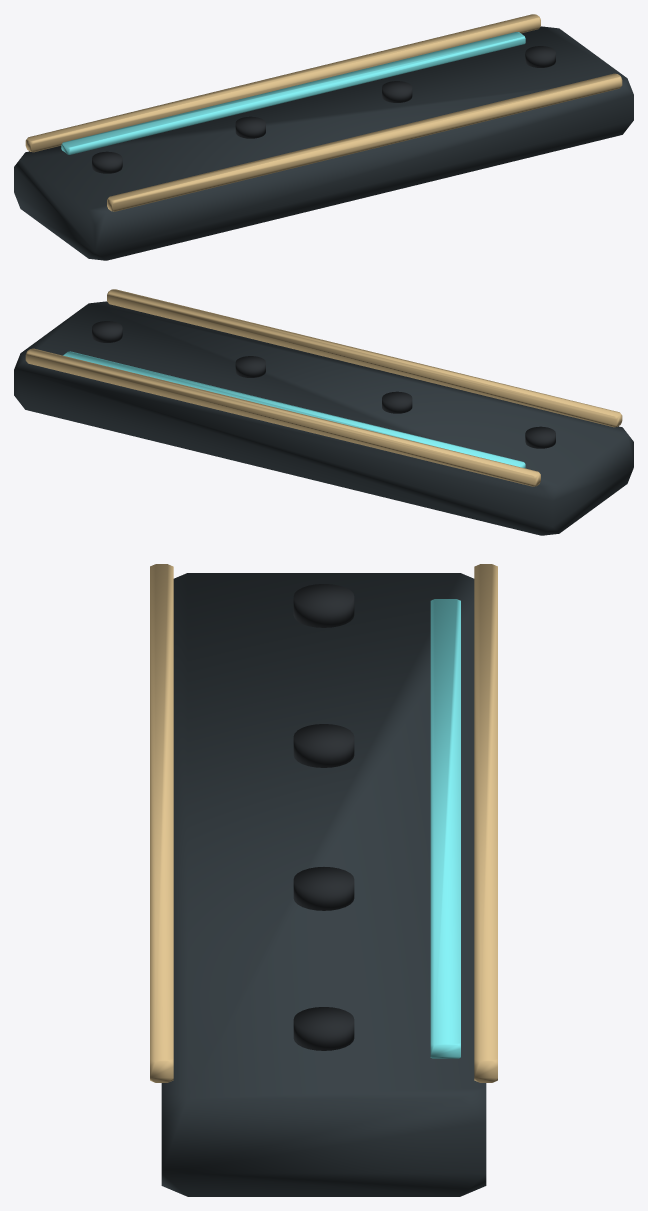
File: room_l5_v4_floor_cable_bridge.glb
3 views of the same model, one above another, from view 1: azimuth 30°, elevation 25°; view 2: azimuth 150°, elevation 25°; view 3: azimuth 270°, elevation 25° (orthographic). The views are drawn at different scales.
Visible parts, largest first — view 1: low_graphite_cable_bridge_body, left_brass_wear_edge, right_brass_wear_edge, inset_cyan_service_line, flush_socket_-0.74, flush_socket_0.25, flush_socket_-0.25, flush_socket_0.74; view 2: low_graphite_cable_bridge_body, left_brass_wear_edge, right_brass_wear_edge, inset_cyan_service_line, flush_socket_-0.74, flush_socket_0.25, flush_socket_-0.25, flush_socket_0.74; view 3: low_graphite_cable_bridge_body, inset_cyan_service_line, left_brass_wear_edge, right_brass_wear_edge, flush_socket_-0.25, flush_socket_0.74, flush_socket_-0.74, flush_socket_0.25.
Boxes of the visible parts, x1,y1,x2,y2 form: low_graphite_cable_bridge_body: [14, 26, 633, 260]; left_brass_wear_edge: [107, 73, 622, 211]; right_brass_wear_edge: [25, 14, 540, 152]; inset_cyan_service_line: [61, 32, 525, 154]; flush_socket_-0.74: [92, 151, 122, 173]; flush_socket_0.25: [382, 81, 412, 102]; flush_socket_-0.25: [235, 116, 265, 138]; flush_socket_0.74: [525, 46, 555, 67]; low_graphite_cable_bridge_body: [14, 301, 633, 535]; left_brass_wear_edge: [107, 289, 622, 427]; right_brass_wear_edge: [25, 348, 540, 486]; inset_cyan_service_line: [63, 351, 525, 468]; flush_socket_-0.74: [525, 426, 555, 448]; flush_socket_0.25: [235, 356, 265, 377]; flush_socket_-0.25: [382, 391, 412, 413]; flush_socket_0.74: [92, 321, 122, 342]; low_graphite_cable_bridge_body: [161, 573, 486, 1196]; inset_cyan_service_line: [430, 599, 460, 1058]; left_brass_wear_edge: [150, 564, 173, 1082]; right_brass_wear_edge: [474, 564, 497, 1082]; flush_socket_-0.25: [293, 724, 354, 767]; flush_socket_0.74: [293, 1007, 354, 1050]; flush_socket_-0.74: [293, 584, 354, 627]; flush_socket_0.25: [293, 867, 354, 910].
Size of the model in its own units: 1.84 by 0.205 by 0.515.
